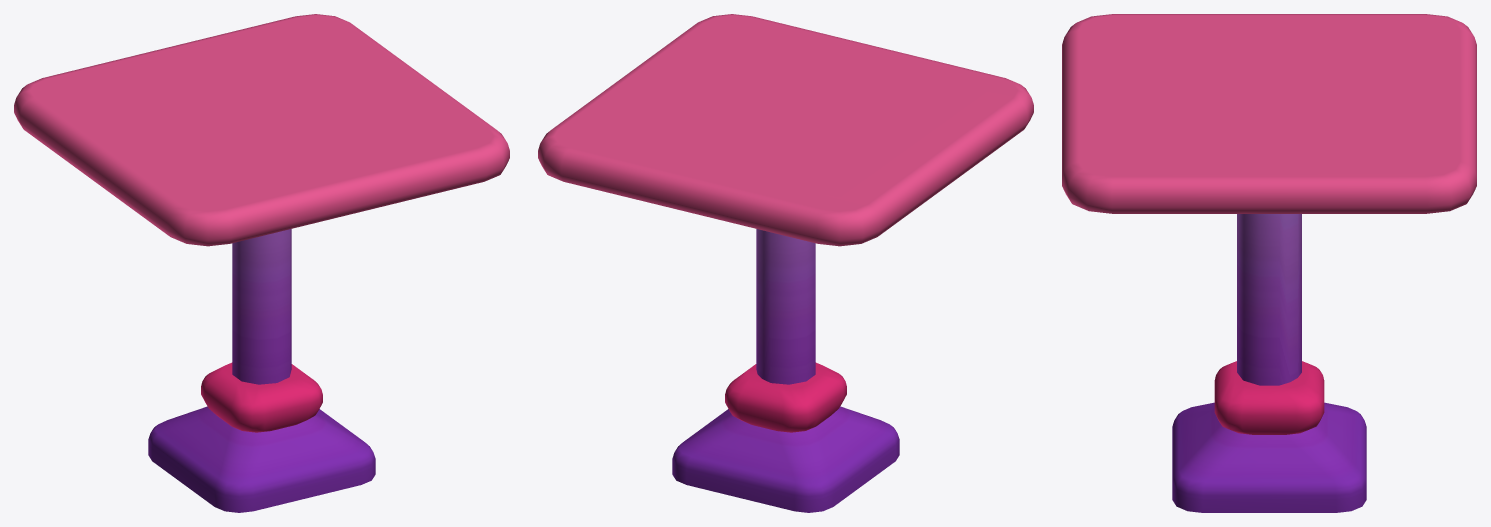
The model's file is Kitchen_Table_13.glb.
3 renders of one model, left to right at view 1: azimuth 30°, elevation 25°; view 2: azimuth 150°, elevation 25°; view 3: azimuth 270°, elevation 25°, orthographic. The views are drawn at different scales.
Visible parts, largest first — view 1: Kitchen_Table_13; view 2: Kitchen_Table_13; view 3: Kitchen_Table_13.
Boxes of the visible parts, x1,y1,x2,y2 form: Kitchen_Table_13: [14, 14, 509, 512]; Kitchen_Table_13: [538, 14, 1033, 512]; Kitchen_Table_13: [1062, 14, 1476, 512].
Size of the model in its own units: 0.75 by 0.75 by 0.75.
1 material, 1 textured.
